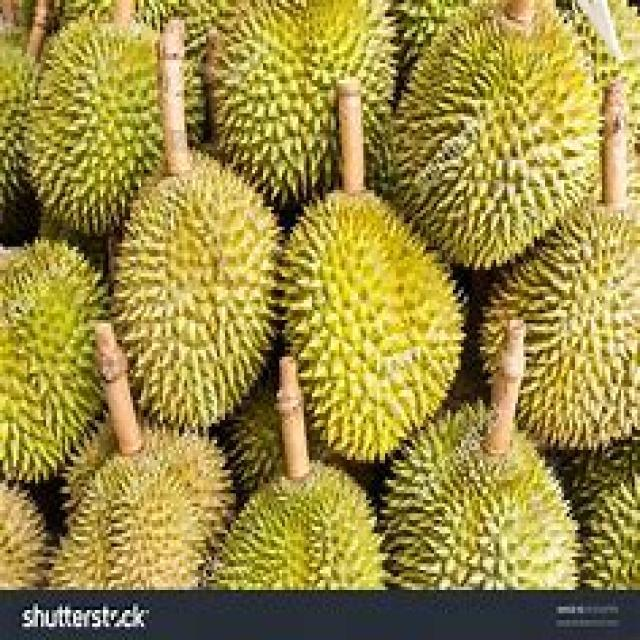mature: (114, 155, 279, 428)
